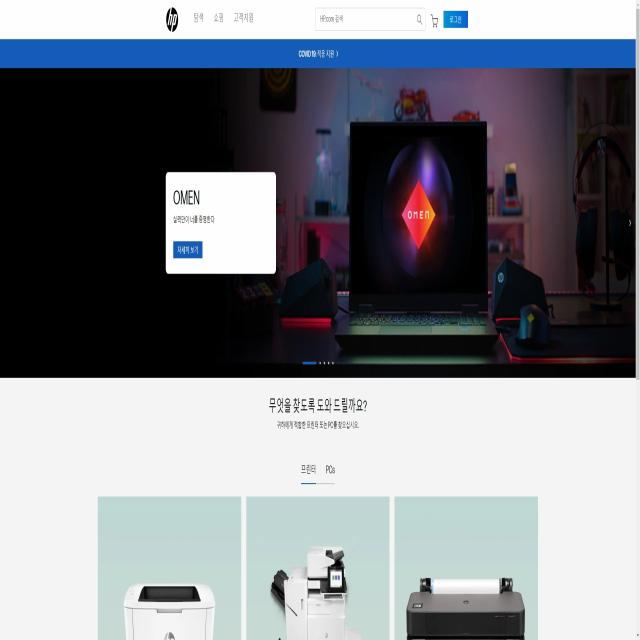menu-bar: (429, 5, 471, 32)
search: (313, 5, 425, 32)
tab-bar: (164, 4, 256, 33)
